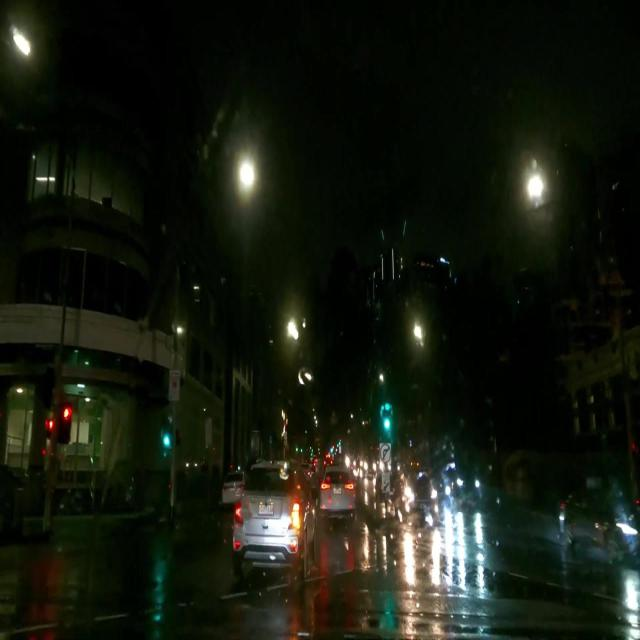Car: (226, 459, 315, 579), (315, 466, 355, 521)
